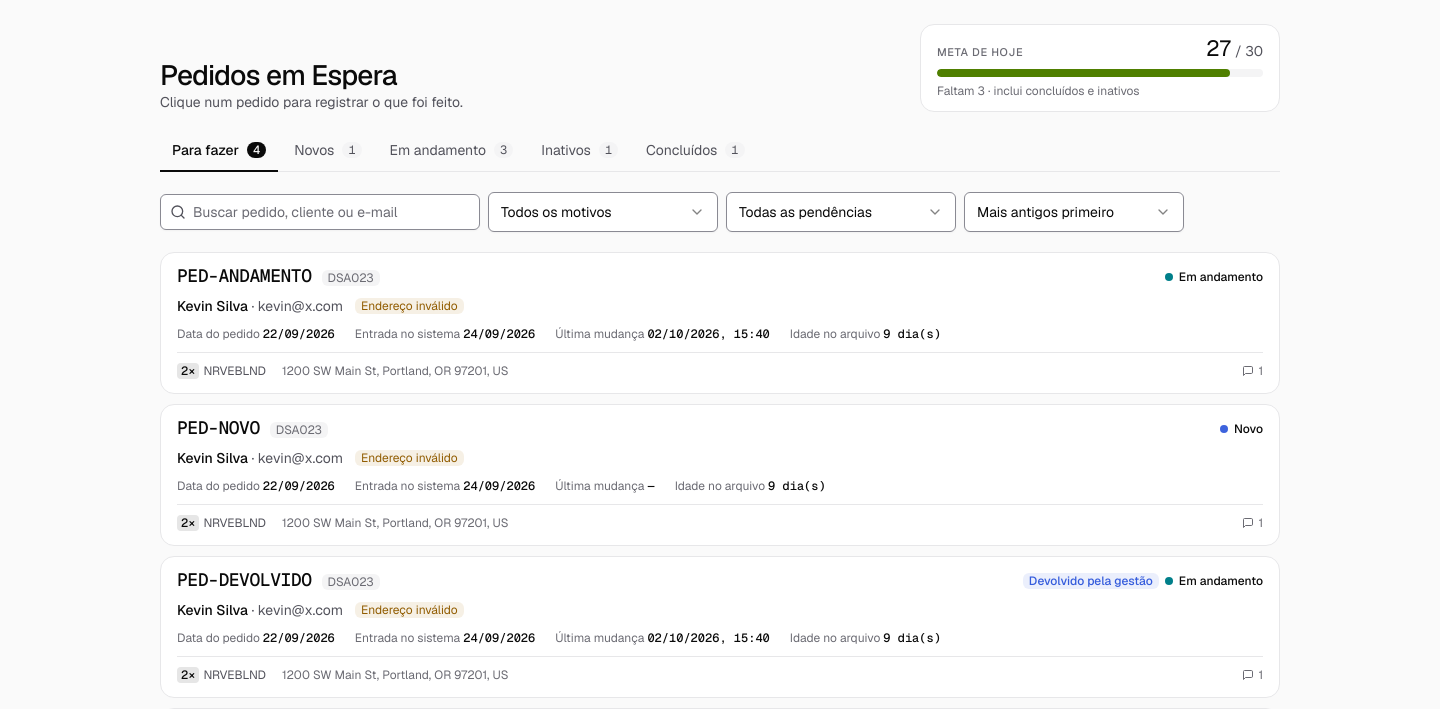
Test: PedidosEspera (agente) › aba Inativos lista com a observação e o botão Reabrir
Click the tab "Inativos 1".
click(580, 152)  # box [529,132,630,172]
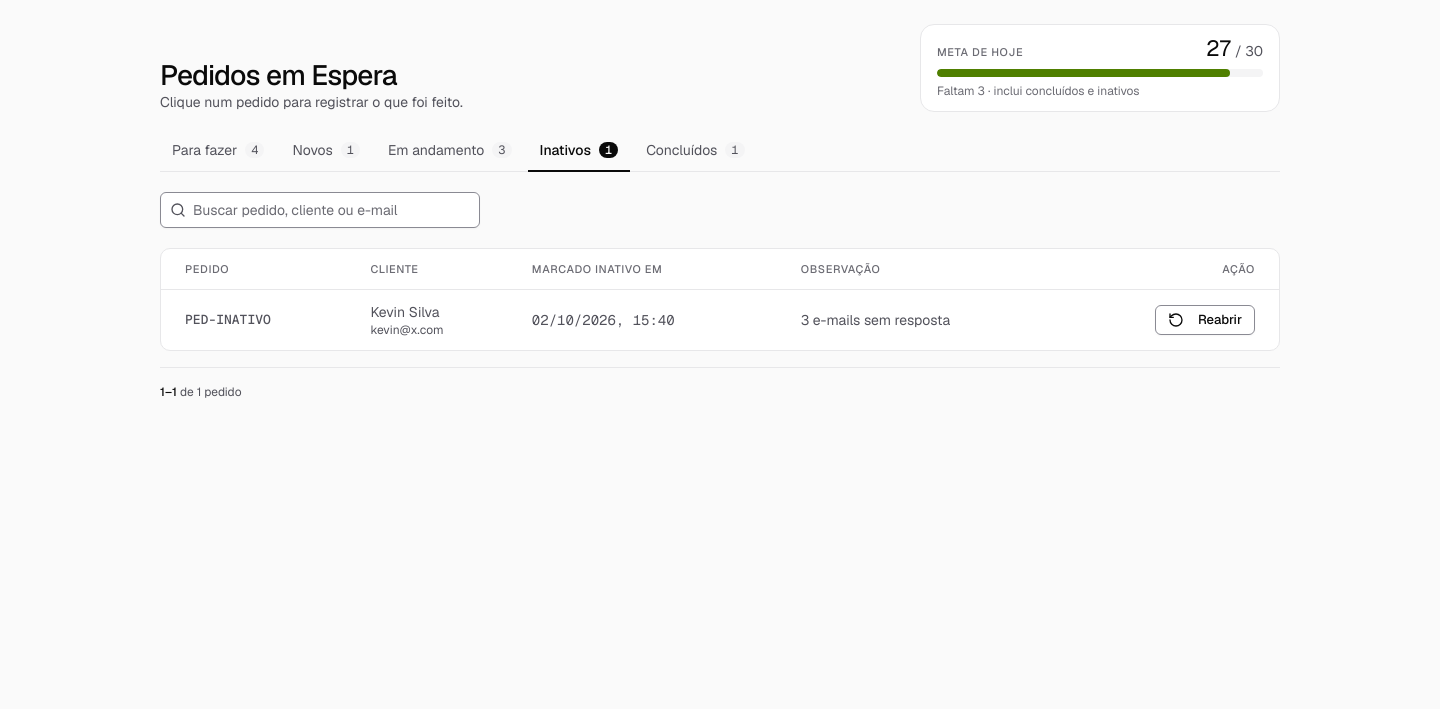
Expected: the text "PED-INATIVO" is shown, [161,289,354,350]
Expected: the text "3 e-mails sem resposta" is shown, [785,289,1064,350]
Expected: the button "Reabrir" is shown, [1155,304,1255,334]
